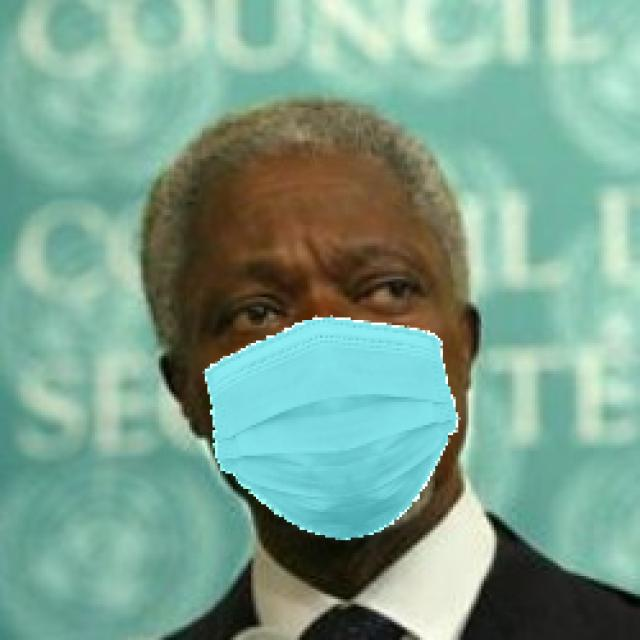mask: (176, 340, 503, 562)
